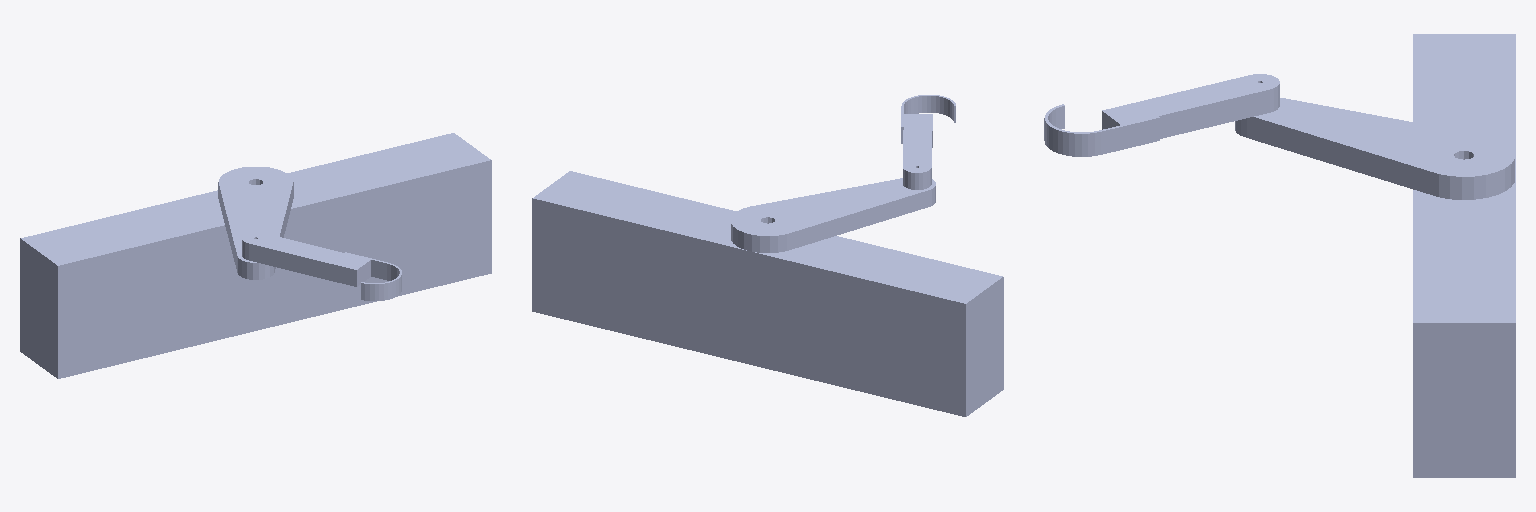
URDF robot description (Test_1):
<?xml version="1.0" encoding="utf-8"?>
<!-- This URDF was automatically created by SolidWorks to URDF Exporter! Originally created by [author] ([email redacted]) 
     Commit Version: 1.5.1-0-g916b5db  Build Version: 1.5.7152.31018
     For more information, please see http://wiki.ros.org/sw_urdf_exporter -->
<robot
  name="Test_1">
  <link
    name="base_link">
    <inertial>
      <origin
        xyz="-8.9041E-18 8.1415E-18 0.05"
        rpy="0 0 0" />
      <mass
        value="5" />
      <inertia
        ixx="0.0027105"
        ixy="-2.2551E-19"
        ixz="-5.1734E-36"
        iyy="0.03399"
        iyz="-8.1044E-37"
        izz="0.03272" />
    </inertial>
    <visual>
      <origin
        xyz="0 0 0"
        rpy="0 0 0" />
      <geometry>
        <mesh
          filename="package://Test_1/meshes/base_link.STL" />
      </geometry>
      <material
        name="">
        <color
          rgba="0.79216 0.81961 0.93333 1" />
      </material>
    </visual>
    <collision>
      <origin
        xyz="0 0 0"
        rpy="0 0 0" />
      <geometry>
        <mesh
          filename="package://Test_1/meshes/base_link.STL" />
      </geometry>
    </collision>
  </link>
  <link
    name="Link_1">
    <inertial>
      <origin
        xyz="5.8467E-18 -0.052483 -0.0075"
        rpy="0 0 0" />
      <mass
        value="0.6" />
      <inertia
        ixx="0.00028197"
        ixy="1.6242E-20"
        ixz="-1.3061E-22"
        iyy="2.4707E-05"
        iyz="4.1357E-21"
        izz="0.00030226" />
    </inertial>
    <visual>
      <origin
        xyz="0 0 0"
        rpy="0 0 0" />
      <geometry>
        <mesh
          filename="package://Test_1/meshes/Link_1.STL" />
      </geometry>
      <material
        name="">
        <color
          rgba="0.79216 0.81961 0.93333 1" />
      </material>
    </visual>
    <collision>
      <origin
        xyz="0 0 0"
        rpy="0 0 0" />
      <geometry>
        <mesh
          filename="package://Test_1/meshes/Link_1.STL" />
      </geometry>
    </collision>
  </link>
  <joint
    name="Link_1_J"
    type="continuous">
    <origin
      xyz="0 0 0.115"
      rpy="0 0 -0.52356" />
    <parent
      link="base_link" />
    <child
      link="Link_1" />
    <axis
      xyz="0 0 1" />
  </joint>
  <link
    name="Link_2">
    <inertial>
      <origin
        xyz="-2.5719E-19 -0.045543 -0.0075"
        rpy="0 0 0" />
      <mass
        value="0.2" />
      <inertia
        ixx="3.8271E-05"
        ixy="1.2061E-22"
        ixz="9.8464E-23"
        iyy="2.3756E-06"
        iyz="3.6858E-22"
        izz="3.9227E-05" />
    </inertial>
    <visual>
      <origin
        xyz="0 0 0"
        rpy="0 0 0" />
      <geometry>
        <mesh
          filename="package://Test_1/meshes/Link_2.STL" />
      </geometry>
      <material
        name="">
        <color
          rgba="0.79216 0.81961 0.93333 1" />
      </material>
    </visual>
    <collision>
      <origin
        xyz="0 0 0"
        rpy="0 0 0" />
      <geometry>
        <mesh
          filename="package://Test_1/meshes/Link_2.STL" />
      </geometry>
    </collision>
  </link>
  <joint
    name="Link_2_J"
    type="continuous">
    <origin
      xyz="0 -0.13784 0.015"
      rpy="0 0 1.04" />
    <parent
      link="Link_1" />
    <child
      link="Link_2" />
    <axis
      xyz="0 0 1" />
  </joint>
  <link
    name="Link_3">
    <inertial>
      <origin
        xyz="-0.014073 -0.04078 6.9389E-18"
        rpy="0 0 0" />
      <mass
        value="0.06" />
      <inertia
        ixx="1.1351E-06"
        ixy="-5.2366E-07"
        ixz="1.692E-22"
        iyy="8.2687E-07"
        iyz="-7.4195E-24"
        izz="1.8427E-06" />
    </inertial>
    <visual>
      <origin
        xyz="0 0 0"
        rpy="0 0 0" />
      <geometry>
        <mesh
          filename="package://Test_1/meshes/Link_3.STL" />
      </geometry>
      <material
        name="">
        <color
          rgba="0.79216 0.81961 0.93333 1" />
      </material>
    </visual>
    <collision>
      <origin
        xyz="0 0 0"
        rpy="0 0 0" />
      <geometry>
        <mesh
          filename="package://Test_1/meshes/Link_3.STL" />
      </geometry>
    </collision>
  </link>
  <joint
    name="Link_3_J"
    type="prismatic">
    <origin
      xyz="0.013596 -0.075 -0.0075"
      rpy="0 0 0" />
    <parent
      link="Link_2" />
    <child
      link="Link_3" />
    <axis
      xyz="0 1 0" />
    <limit
      lower="0"
      upper="0"
      effort="0"
      velocity="0" />
  </joint>
</robot>

--- What the picture shows (computed from the rendered views, not written in the file) ---
Views: 3 orthographic renders of the robot side by side, from view 1: azimuth 30°, elevation 25°; view 2: azimuth 150°, elevation 25°; view 3: azimuth 270°, elevation 25°.
Model Test_1 with 4 links and 3 joints (2 continuous, 1 prismatic), rooted at base_link, posed all joints at 0.
Links seen in each view (by area): view 1: base_link, Link_1, Link_2, Link_3; view 2: base_link, Link_1, Link_2, Link_3; view 3: base_link, Link_1, Link_2, Link_3.
Link boxes in pixels (x1,y1,x2,y2): base_link: [20, 133, 491, 378]; Link_1: [218, 167, 293, 279]; Link_2: [242, 232, 370, 286]; Link_3: [345, 252, 401, 300]; base_link: [532, 171, 1003, 416]; Link_1: [731, 178, 935, 252]; Link_2: [903, 114, 932, 189]; Link_3: [901, 95, 955, 143]; base_link: [1413, 34, 1515, 477]; Link_1: [1235, 98, 1514, 199]; Link_2: [1102, 74, 1279, 138]; Link_3: [1044, 104, 1159, 156].
Size in the robot's own frame: 0.4 by 0.2755 by 0.13 metres.
4 mesh visuals loaded from 4 distinct referenced files (4 binary STL).